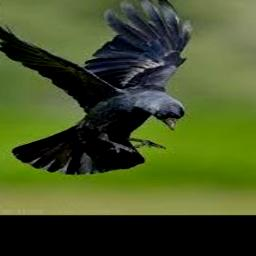Crow: (0, 0, 191, 174)
